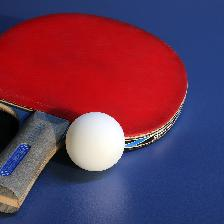WhiteBall: (65, 111, 124, 171)
